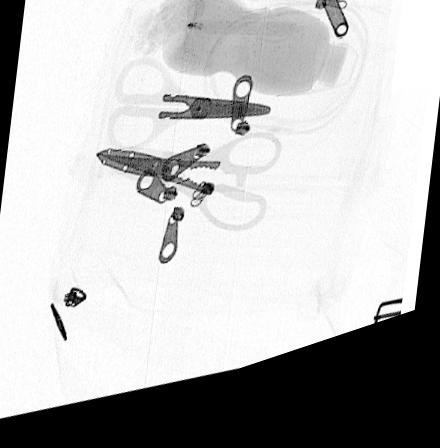Scissors: (93, 146, 281, 249), (103, 63, 275, 168)
